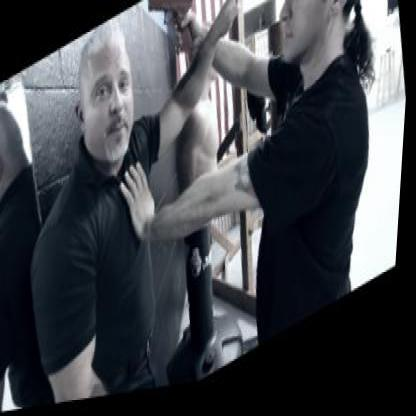pistol: (142, 0, 202, 78)
